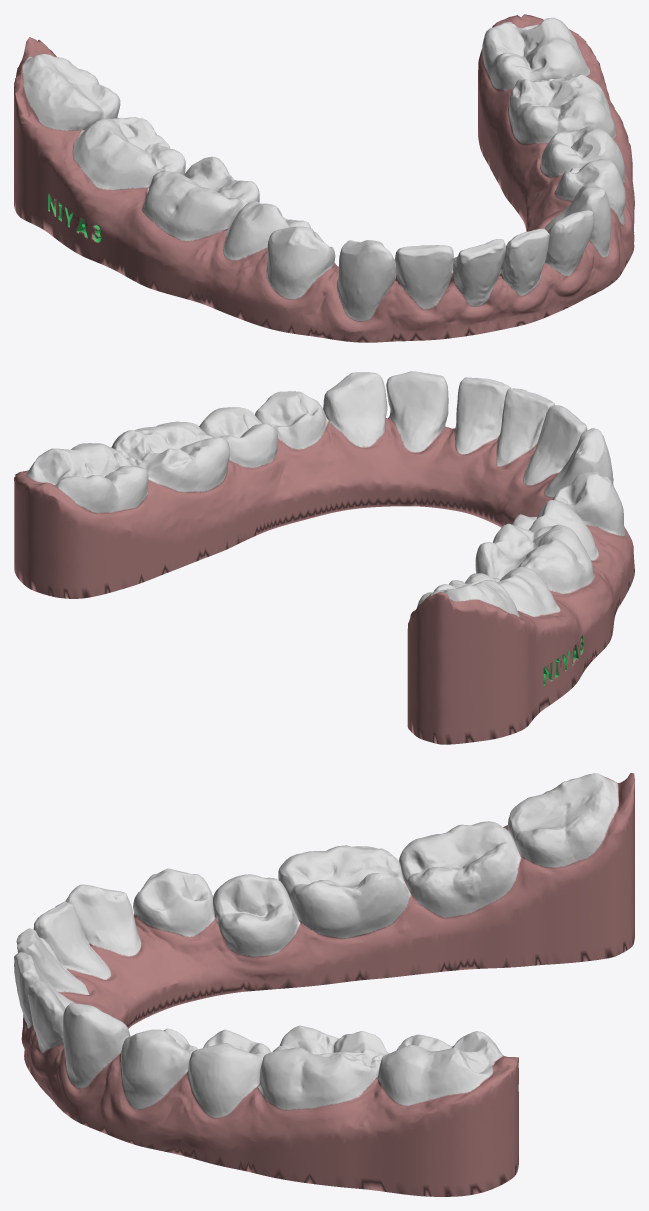
The model's file is Niya Priority Lower jaw - 03 - Model.glb.
The picture shows the model from 3 angles, top to bottom: view 1: azimuth 30°, elevation 25°; view 2: azimuth 150°, elevation 25°; view 3: azimuth 270°, elevation 25°; orthographic projection. The views are drawn at different scales.
Parts seen in each view (by area): view 1: Niya Priority Lower jaw - 03 - Model; view 2: Niya Priority Lower jaw - 03 - Model; view 3: Niya Priority Lower jaw - 03 - Model.
Boxes of the visible parts, x1,y1,x2,y2 form: Niya Priority Lower jaw - 03 - Model: (14,14,634,342); Niya Priority Lower jaw - 03 - Model: (14,371,634,744); Niya Priority Lower jaw - 03 - Model: (14,773,634,1196).
Bounding box in the file's own units: 62.72 × 16.53 × 57.48.
